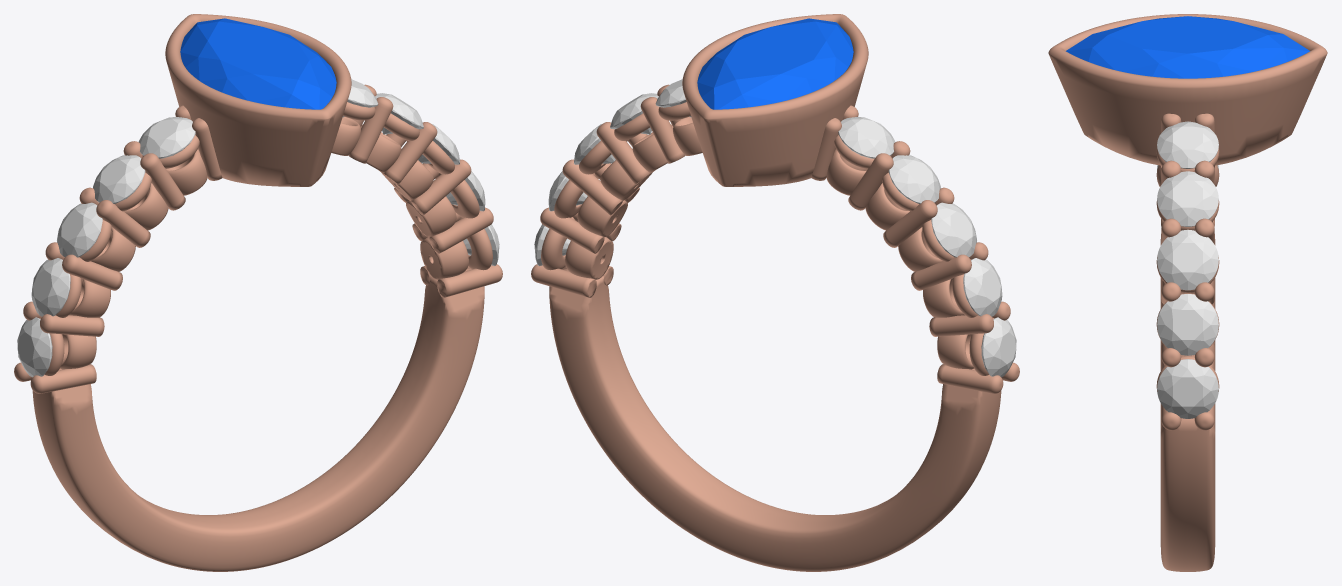
Rendered from bluesapphire-marquise-rosegold-bezelset-straightband-11stone.glb.
3 renders of one model, left to right at view 1: azimuth 30°, elevation 25°; view 2: azimuth 150°, elevation 25°; view 3: azimuth 270°, elevation 25°, orthographic.
Parts seen in each view (by area): view 1: metal.002, stone.002, side.022, side.023, side.021, side.024, side.020, side.028; view 2: metal.002, stone.002, side.022, side.023, side.021, side.024, side.020, side.028; view 3: metal.002, stone.002, side.026, side.027, side.025, side.028, side.029.
Boxes of the visible parts, x1,y1,x2,y2 form: metal.002: (14,14,502,571); stone.002: (180,18,336,109); side.022: (57,202,102,257); side.023: (93,155,145,203); side.021: (31,258,70,316); side.024: (138,117,195,158); side.020: (17,317,52,377); side.028: (375,93,423,134); metal.002: (531,14,1019,571); stone.002: (697,18,853,109); side.022: (931,202,976,257); side.023: (888,155,940,203); side.021: (963,258,1002,316); side.024: (838,117,895,158); side.020: (981,317,1016,377); side.028: (610,93,658,134); metal.002: (1048,14,1327,571); stone.002: (1066,16,1309,78); side.026: (1157,294,1218,355); side.027: (1157,229,1218,290); side.025: (1157,359,1218,418); side.028: (1157,171,1218,226); side.029: (1157,121,1218,168).
Bounding box in the file's own units: 22.1 × 22.94 × 11.31.
